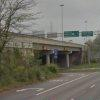Bridge: (1, 23, 90, 73)
